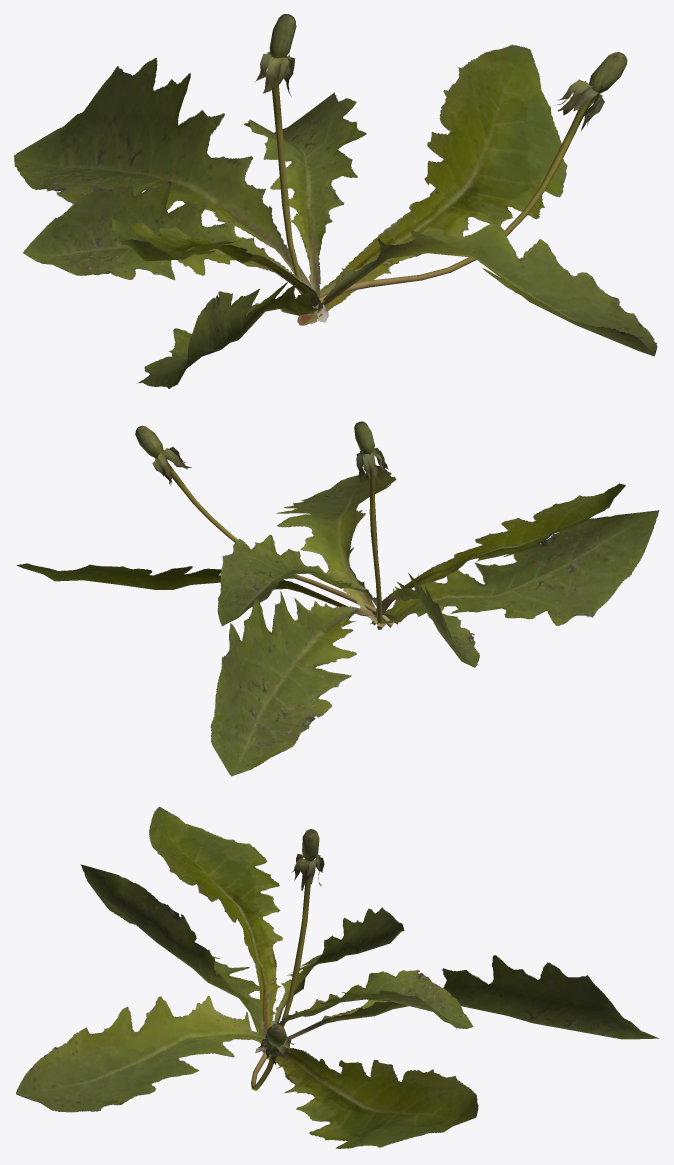
3 renders of one model, top to bottom at view 1: azimuth 30°, elevation 25°; view 2: azimuth 150°, elevation 25°; view 3: azimuth 270°, elevation 25°, orthographic. The views are drawn at different scales.
Parts seen in each view (by area): view 1: dandelion_01__d_lod0; view 2: dandelion_01__d_lod0; view 3: dandelion_01__d_lod0.
Boxes of the visible parts, x1=… form: dandelion_01__d_lod0: x1=14, y1=14, x2=657, y2=388; dandelion_01__d_lod0: x1=16, y1=421, x2=659, y2=776; dandelion_01__d_lod0: x1=16, y1=806, x2=658, y2=1148.
Bounding box in the file's own units: 0.1253 × 0.0579 × 0.1483.
1 material, 1 textured.
